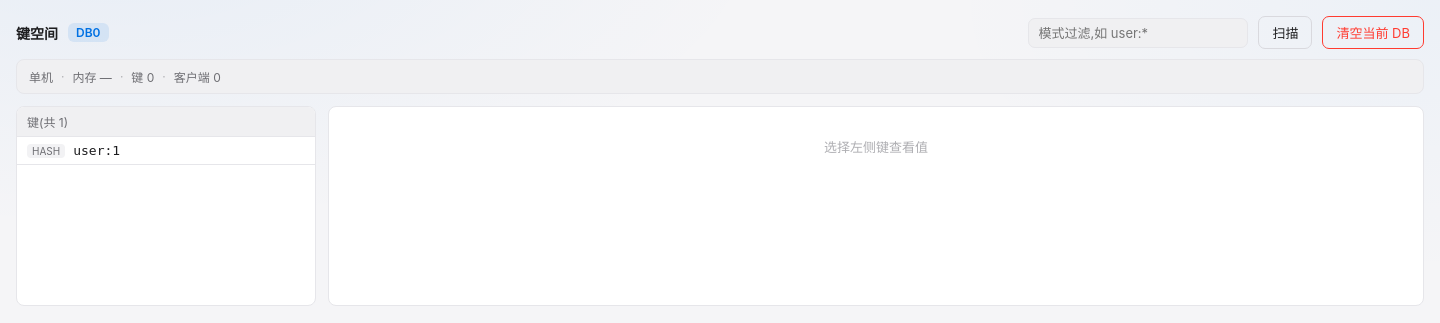
Test case: RedisKeysView › loads the selected key value on click
What coordinates should you click on to do the following:
click the element with test id "redis-key-row"
I would click on:
 (166, 151)
Its box is [17,137,315,165].
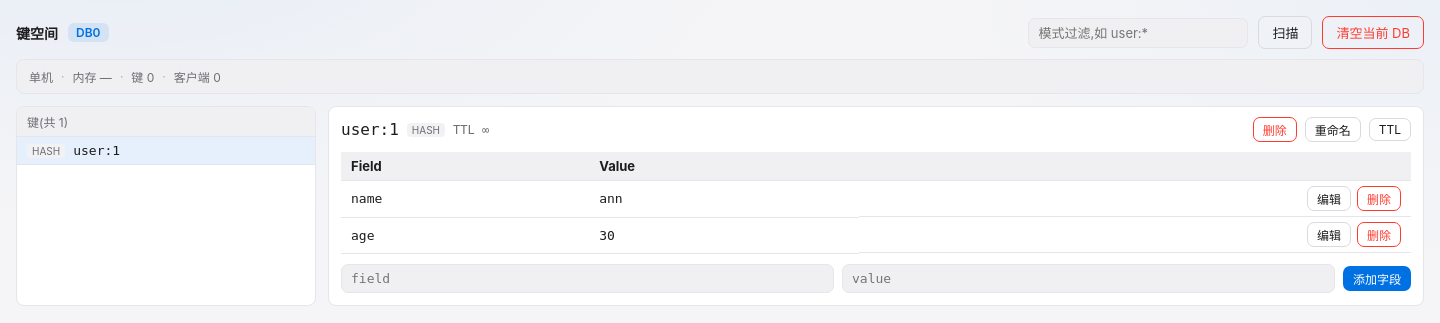
Expected: the element with test id "redis-value-panel" is shown, [328,106,1424,306]
Result: the element with test id "redis-value-panel" shows "name" at [351,191,382,206]
Result: the element with test id "redis-value-panel" shows "ann" at [599,191,623,206]
